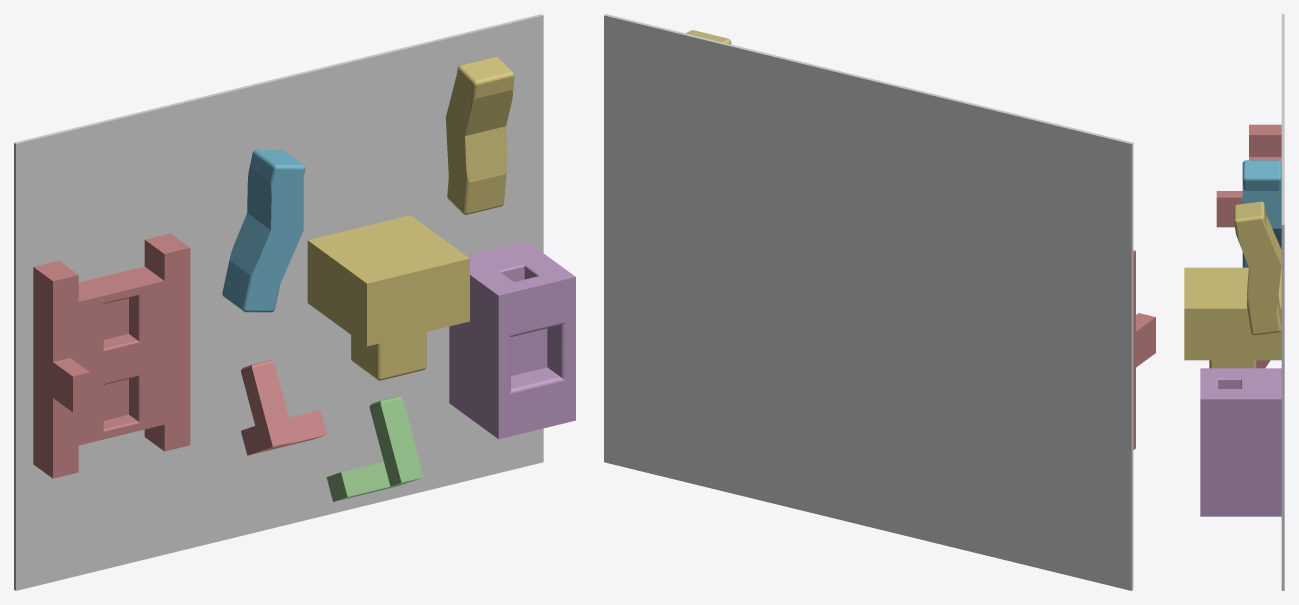
Rendered from pickup_layout.glb.
3 views of the same model, side by side, from view 1: azimuth 30°, elevation 25°; view 2: azimuth 150°, elevation 25°; view 3: azimuth 270°, elevation 25° (orthographic). The views are drawn at different scales.
Parts seen in each view (by area): view 1: world, 0.obj, 3.obj, 6.obj, 2.obj, 1.obj, 4.obj, 5.obj; view 2: world, 0.obj; view 3: 3.obj, 6.obj, 1.obj, world, 2.obj, 0.obj.
Part boxes in pixels (box(x1,y1,x2,y2)): world: box(14, 14, 543, 590); 0.obj: box(33, 233, 190, 478); 3.obj: box(449, 240, 575, 439); 6.obj: box(307, 215, 469, 380); 2.obj: box(222, 149, 305, 312); 1.obj: box(445, 56, 514, 214); 4.obj: box(326, 396, 423, 501); 5.obj: box(241, 360, 326, 455); world: box(604, 14, 1133, 590); 0.obj: box(1133, 250, 1155, 449); 3.obj: box(1200, 368, 1281, 516); 6.obj: box(1184, 267, 1281, 368); 1.obj: box(1234, 201, 1281, 335); world: box(1281, 14, 1284, 590); 2.obj: box(1242, 160, 1281, 267); 0.obj: box(1216, 124, 1281, 227).
Size of the model in its own units: 30.75 by 24.89 by 6.2.
